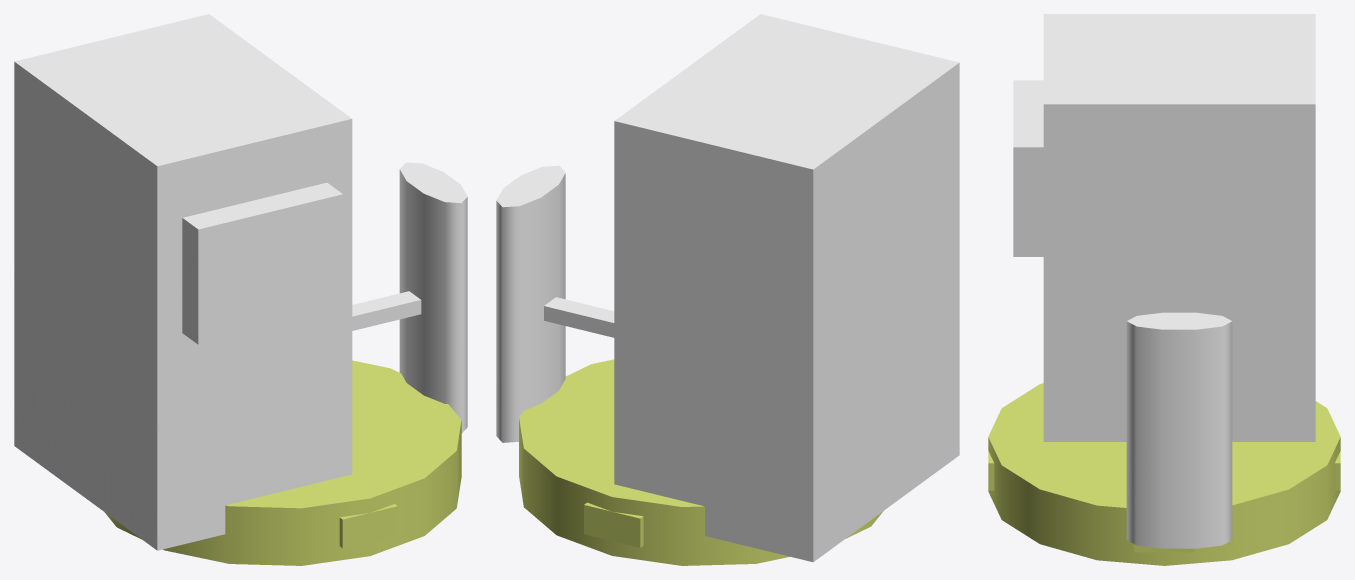
The picture shows the model from 3 angles, left to right: view 1: azimuth 30°, elevation 25°; view 2: azimuth 150°, elevation 25°; view 3: azimuth 270°, elevation 25°; orthographic projection. The views are drawn at different scales.
Parts seen in each view (by area): view 1: meter_1, visualRotor, display_2, probe_3, lead_4; view 2: meter_1, visualRotor, probe_3, lead_4; view 3: meter_1, visualRotor, probe_3, display_2.
Boxes of the visible parts, bbox=[...] form: meter_1: bbox=[14, 14, 352, 550]; visualRotor: bbox=[104, 360, 461, 565]; display_2: bbox=[182, 182, 342, 344]; probe_3: bbox=[399, 162, 467, 433]; lead_4: bbox=[352, 291, 421, 330]; meter_1: bbox=[614, 14, 959, 562]; visualRotor: bbox=[519, 359, 883, 565]; probe_3: bbox=[496, 165, 565, 442]; lead_4: bbox=[544, 297, 614, 337]; meter_1: bbox=[1043, 14, 1315, 441]; visualRotor: bbox=[988, 383, 1340, 565]; probe_3: bbox=[1126, 312, 1232, 548]; display_2: bbox=[1013, 80, 1043, 256].
Size of the model in its own units: 0.7979 by 0.86 by 0.7.
